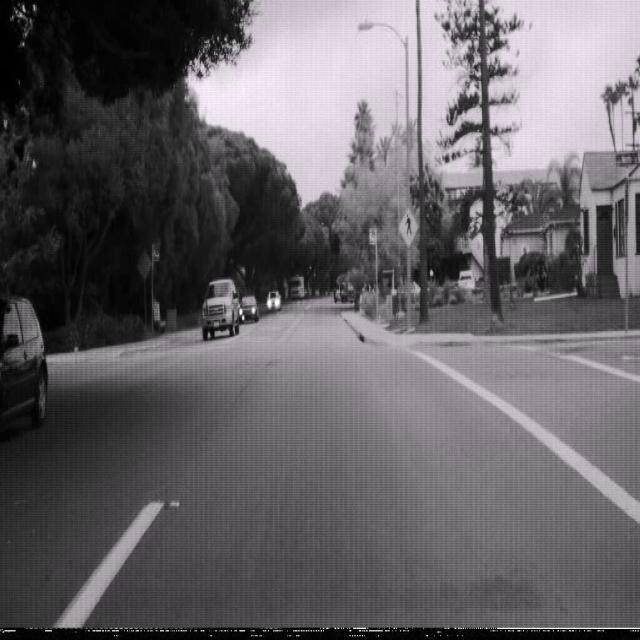pedestrianCrossing: (398, 206, 419, 248)
